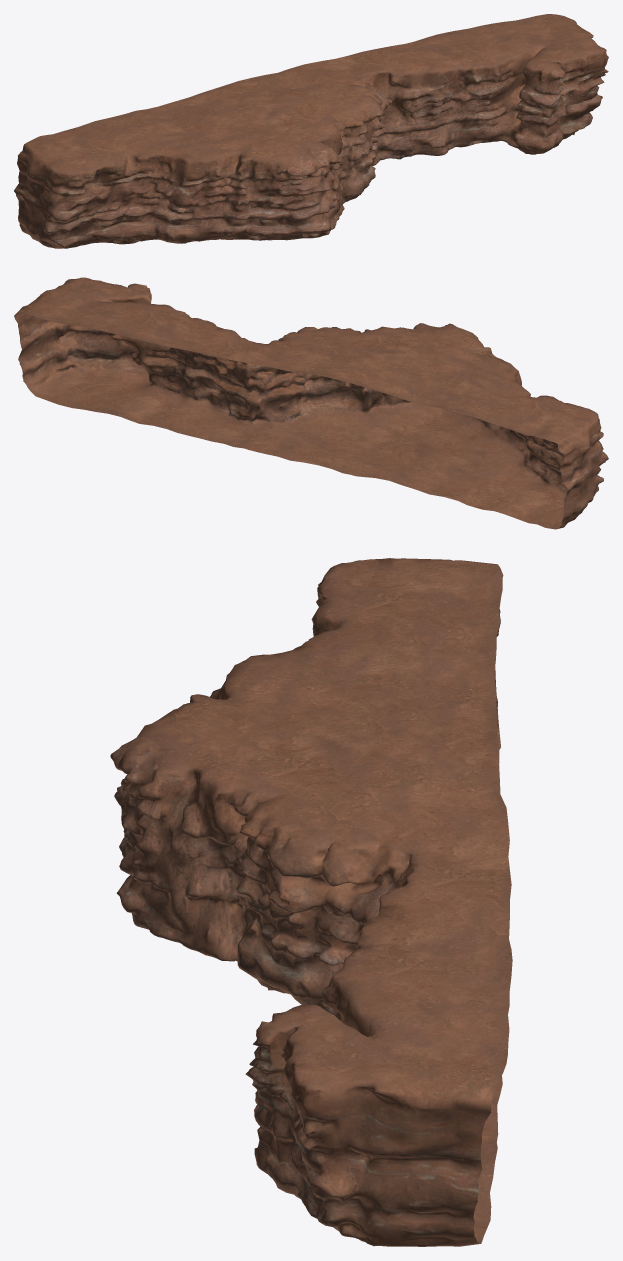
The model's file is desert_western_cliff_layered_large_03_vbzmdd1ga_mid.glb.
3 renders of one model, top to bottom at view 1: azimuth 30°, elevation 25°; view 2: azimuth 150°, elevation 25°; view 3: azimuth 270°, elevation 25°, orthographic. The views are drawn at different scales.
Visible parts, largest first — view 1: vbzmdd1ga_LOD0_TIER2_000; view 2: vbzmdd1ga_LOD0_TIER2_000; view 3: vbzmdd1ga_LOD0_TIER2_000.
Boxes of the visible parts, bbox=[...] form: vbzmdd1ga_LOD0_TIER2_000: bbox=[14, 14, 608, 248]; vbzmdd1ga_LOD0_TIER2_000: bbox=[14, 277, 608, 529]; vbzmdd1ga_LOD0_TIER2_000: bbox=[110, 558, 512, 1246].
Bounding box in the file's own units: 22.14 × 3.77 × 6.92.
Materials: 1 (1 with a texture image).
